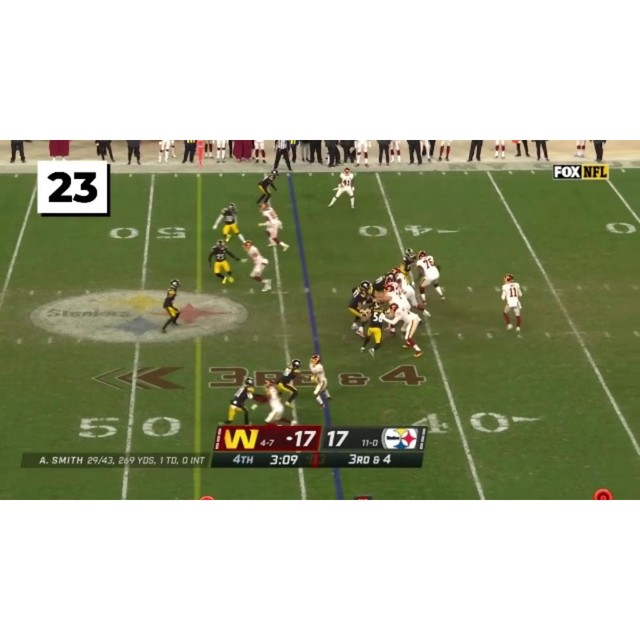american-football-player: (385, 301, 425, 358), (415, 249, 445, 305), (499, 274, 524, 337), (348, 280, 375, 338), (241, 239, 271, 291), (258, 202, 289, 251), (359, 307, 388, 358), (226, 378, 256, 425), (213, 202, 246, 244), (308, 354, 333, 409), (277, 358, 302, 412), (208, 238, 236, 285), (328, 168, 356, 210), (161, 279, 182, 332), (383, 282, 411, 312), (257, 169, 279, 206)
referee: (272, 140, 293, 174)
